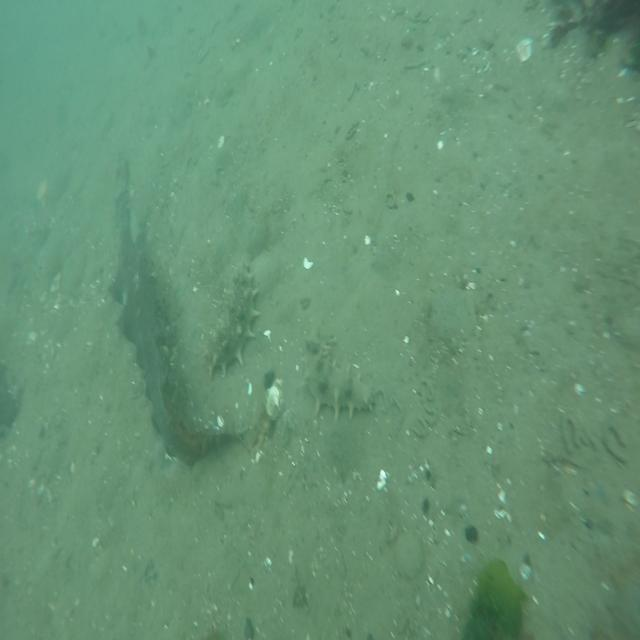holothurian: (300, 332, 380, 418), (204, 264, 260, 379)
